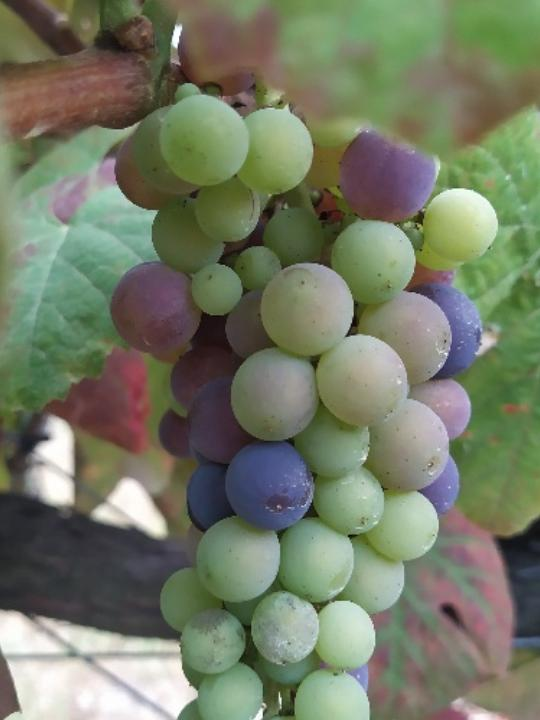grape: (107, 87, 501, 720)
